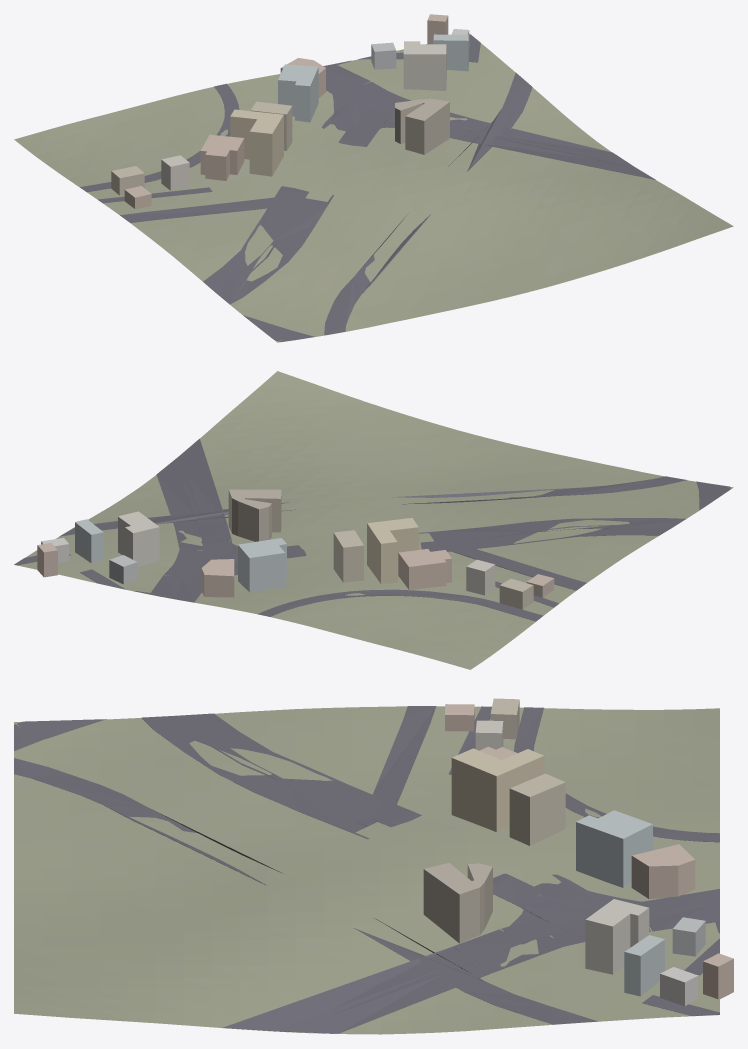
Rendered from chunk_2_6.glb.
The picture shows the model from 3 angles, top to bottom: view 1: azimuth 30°, elevation 25°; view 2: azimuth 150°, elevation 25°; view 3: azimuth 270°, elevation 25°; orthographic projection. The views are drawn at different scales.
Visible parts, largest first — view 1: geometry_14, geometry_23, geometry_4, geometry_22, geometry_0, geometry_10, geometry_5, geometry_20, geometry_21, geometry_6, geometry_17, geometry_26 (+10 smaller); view 2: geometry_14, geometry_0, geometry_23, geometry_4, geometry_5, geometry_22, geometry_20, geometry_32, geometry_6, geometry_10, geometry_17, geometry_21 (+11 smaller); view 3: geometry_14, geometry_23, geometry_4, geometry_22, geometry_20, geometry_0, geometry_5, geometry_17, geometry_10, geometry_1, geometry_21, geometry_3 (+20 smaller).
Boxes of the visible parts, <box> form: geometry_14: <box>14,43,733,342</box>; geometry_23: <box>324,72,532,335</box>; geometry_4: <box>230,109,283,176</box>; geometry_22: <box>217,202,326,304</box>; geometry_0: <box>395,98,449,154</box>; geometry_10: <box>403,41,446,90</box>; geometry_5: <box>278,64,318,122</box>; geometry_20: <box>457,128,655,179</box>; geometry_21: <box>203,201,297,293</box>; geometry_6: <box>200,134,244,180</box>; geometry_17: <box>470,120,634,167</box>; geometry_26: <box>120,196,287,222</box>; geometry_14: <box>15,371,733,669</box>; geometry_0: <box>228,489,281,541</box>; geometry_23: <box>59,476,686,536</box>; geometry_4: <box>367,518,418,584</box>; geometry_5: <box>238,538,286,592</box>; geometry_22: <box>439,518,685,541</box>; geometry_20: <box>179,438,226,525</box>; geometry_32: <box>258,589,542,621</box>; geometry_6: <box>398,549,451,589</box>; geometry_10: <box>118,511,159,566</box>; geometry_17: <box>156,456,200,527</box>; geometry_21: <box>448,525,672,549</box>; geometry_14: <box>14,706,719,1034</box>; geometry_23: <box>14,758,597,1024</box>; geometry_4: <box>451,748,544,832</box>; geometry_22: <box>141,715,370,829</box>; geometry_20: <box>222,946,475,1031</box>; geometry_0: <box>423,863,492,943</box>; geometry_5: <box>576,810,652,887</box>; geometry_17: <box>273,961,493,1033</box>; geometry_10: <box>585,899,649,974</box>; geometry_1: <box>509,773,565,845</box>; geometry_21: <box>176,713,380,814</box>; geometry_3: <box>631,844,695,899</box>.
Bounding box in the file's own units: 250 × 32.17 × 255.
